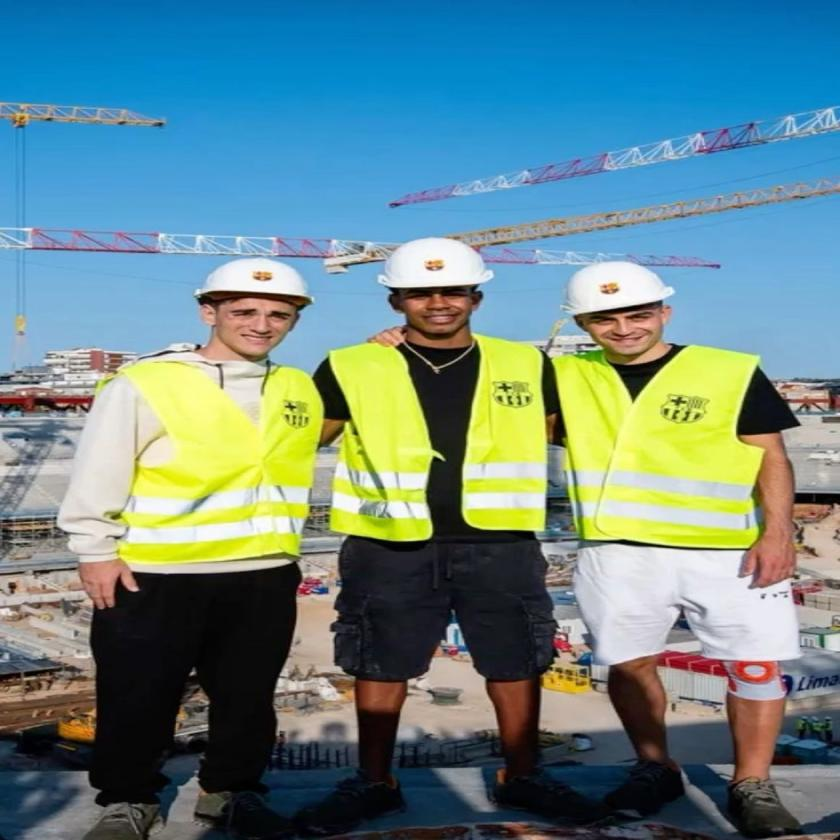Con_casco: (346, 230, 526, 348), (186, 234, 309, 372), (552, 246, 690, 369)
